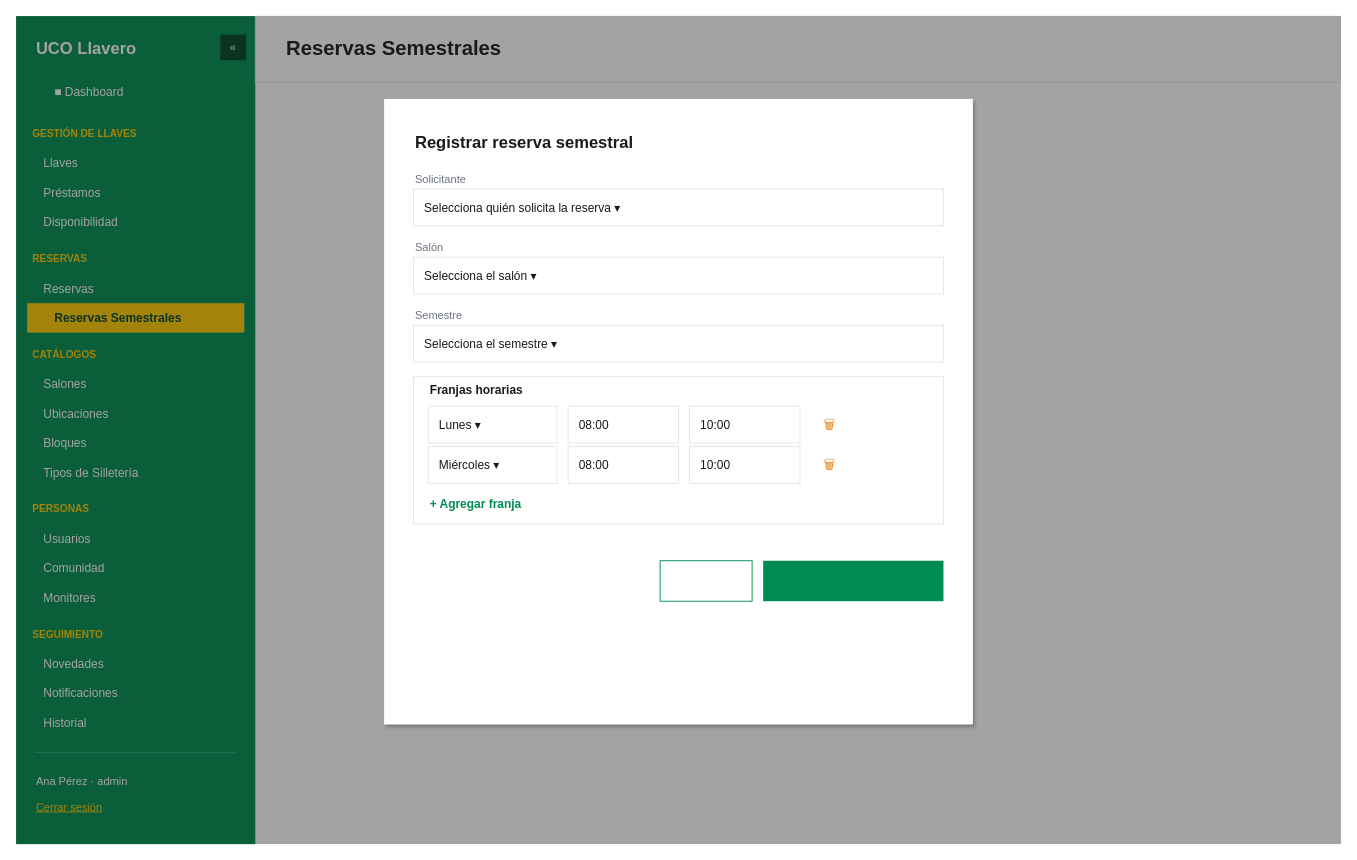
This 1357x860 diagram has some shape labels left out. The shapes that lost their labels are listed below. From the top down, each one's centre as x and y in pixels, then its label:
point 705,580: Cancelar
point 853,580: Registrar grupo
